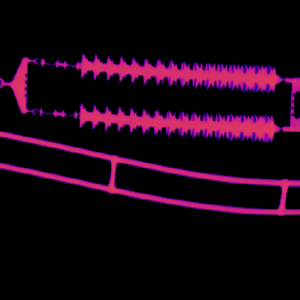insulator: (75, 46, 277, 143)
